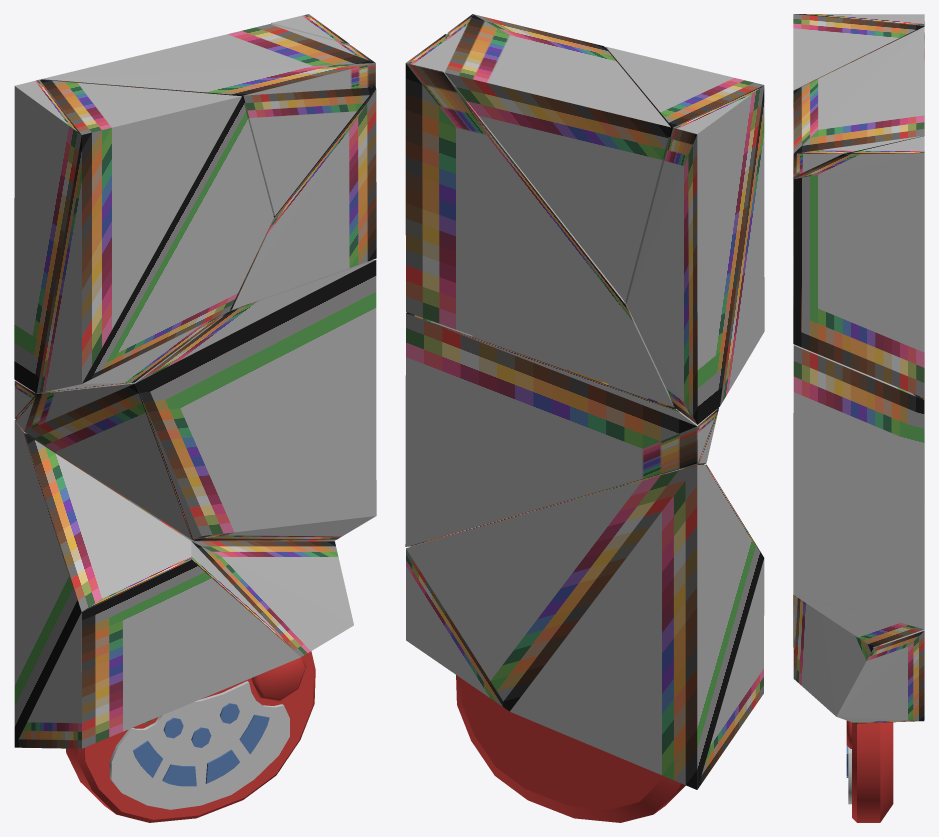
The model's file is Guitar_01.fbx.
3 renders of one model, left to right at view 1: azimuth 30°, elevation 25°; view 2: azimuth 150°, elevation 25°; view 3: azimuth 270°, elevation 25°, orthographic. The views are drawn at different scales.
Visible parts, largest first — view 1: Guitar_01_cell.003, Guitar_01_cell.002, Guitar_01_cell.006, Guitar_01_cell.008, Guitar_01_cell.001, Guitar_01_cell.007, Guitar_01, Guitar_01_cell.027; view 2: Guitar_01_cell.002, Guitar_01_cell.001, Guitar_01_cell.006, Guitar_01_cell.003, Guitar_01_cell.008, Guitar_01; view 3: Guitar_01_cell.006, Guitar_01_cell.001, Guitar_01_cell.008, Guitar_01_cell.002, Guitar_01_cell.003, Guitar_01.
Boxes of the visible parts, left/top/right/bottom form: Guitar_01_cell.003: left=14, top=79, right=273, bottom=393; Guitar_01_cell.002: left=14, top=420, right=353, bottom=748; Guitar_01_cell.006: left=14, top=259, right=376, bottom=540; Guitar_01_cell.008: left=41, top=24, right=375, bottom=215; Guitar_01_cell.001: left=230, top=14, right=376, bottom=310; Guitar_01_cell.007: left=109, top=681, right=289, bottom=809; Guitar_01: left=66, top=540, right=315, bottom=822; Guitar_01_cell.027: left=252, top=657, right=306, bottom=701; Guitar_01_cell.002: left=406, top=464, right=764, bottom=789; Guitar_01_cell.001: left=405, top=34, right=673, bottom=407; Guitar_01_cell.006: left=405, top=312, right=718, bottom=546; Guitar_01_cell.003: left=605, top=46, right=764, bottom=424; Guitar_01_cell.008: left=444, top=14, right=670, bottom=301; Guitar_01: left=456, top=675, right=685, bottom=822; Guitar_01_cell.006: left=793, top=344, right=924, bottom=647; Guitar_01_cell.001: left=793, top=136, right=924, bottom=398; Guitar_01_cell.008: left=793, top=27, right=924, bottom=230; Guitar_01_cell.002: left=793, top=595, right=924, bottom=723; Guitar_01_cell.003: left=793, top=14, right=924, bottom=254; Guitar_01: left=846, top=722, right=893, bottom=822.
Size of the model in its own units: 53.02 by 128 by 21.06.
